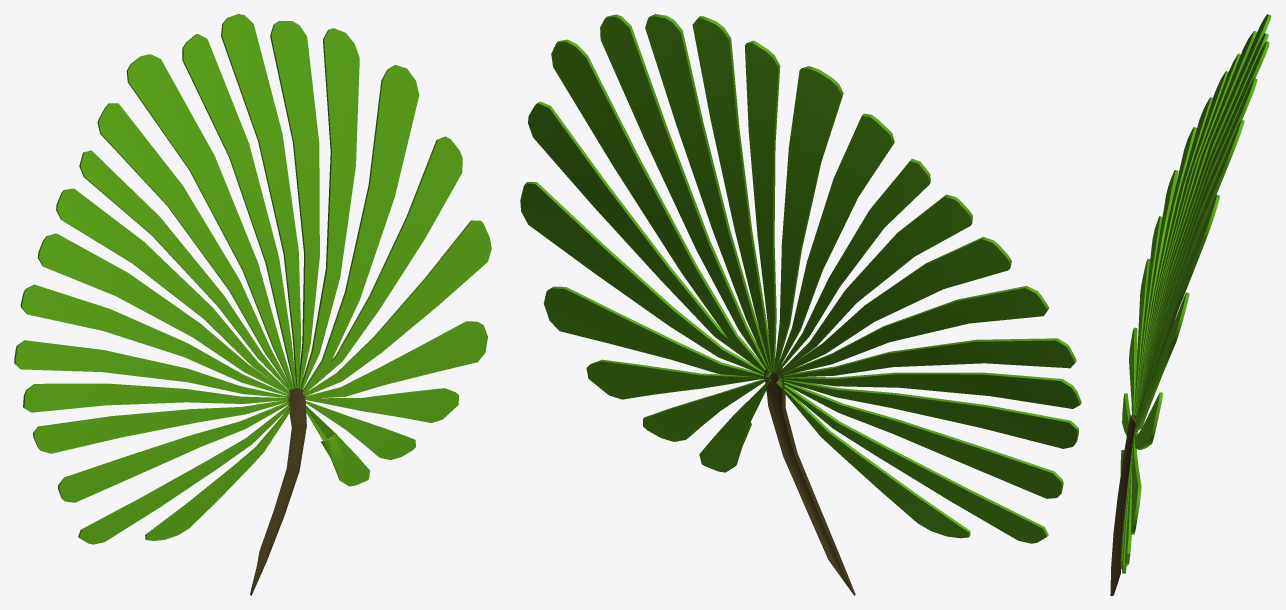
Rendered from Plant02.FBX.
3 views of the same model, side by side, from view 1: azimuth 30°, elevation 25°; view 2: azimuth 150°, elevation 25°; view 3: azimuth 270°, elevation 25° (orthographic). The views are drawn at different scales.
Visible parts, largest first — view 1: Plane006; view 2: Plane006; view 3: Plane006.
Boxes of the visible parts, x1,y1,x2,y2 form: Plane006: (14, 14, 491, 595); Plane006: (520, 14, 1081, 595); Plane006: (1110, 14, 1271, 595).
Size of the model in its own units: 55.18 by 58.26 by 14.62.
